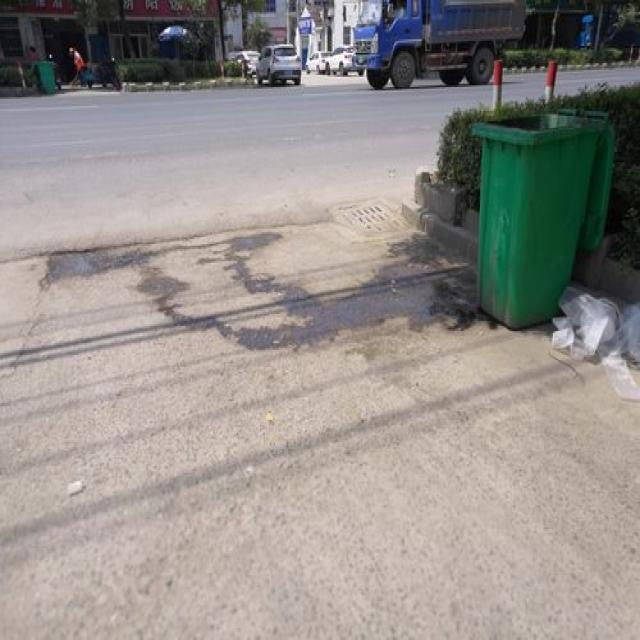garbage: (548, 285, 639, 399)
garbage_bin: (468, 105, 616, 328)
